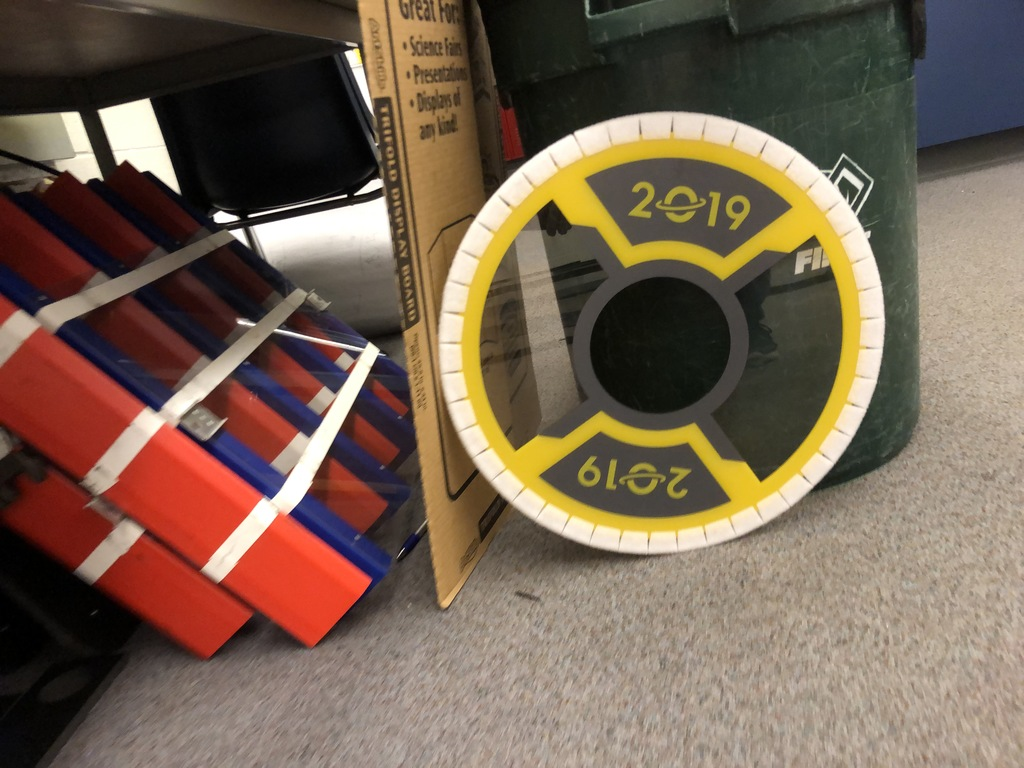hatch_panel: (430, 107, 907, 589)
